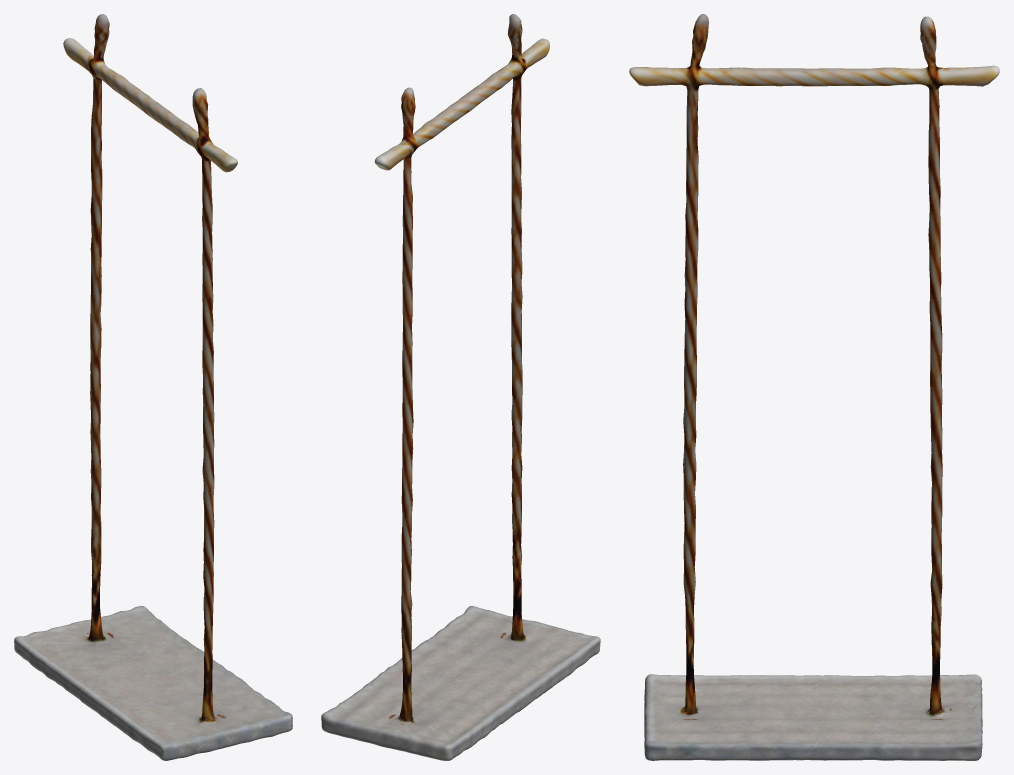
Rendered from Columpio.fbx.
3 renders of one model, left to right at view 1: azimuth 30°, elevation 25°; view 2: azimuth 150°, elevation 25°; view 3: azimuth 270°, elevation 25°, orthographic. The views are drawn at different scales.
Visible parts, largest first — view 1: BaseColumpio, Cuerdas, Sujecion; view 2: BaseColumpio, Cuerdas, Sujecion; view 3: BaseColumpio, Cuerdas, Sujecion.
Boxes of the visible parts, x1,y1,x2,y2 form: BaseColumpio: (14, 606, 292, 760); Cuerdas: (89, 78, 214, 720); Sujecion: (63, 14, 237, 172); BaseColumpio: (321, 606, 600, 760); Cuerdas: (399, 78, 523, 721); Sujecion: (374, 14, 549, 170); BaseColumpio: (644, 674, 982, 760); Cuerdas: (683, 89, 942, 714); Sujecion: (629, 14, 999, 91).
Bounding box in the file's own units: 620 × 2880 × 1360.
1 material, 1 textured.
